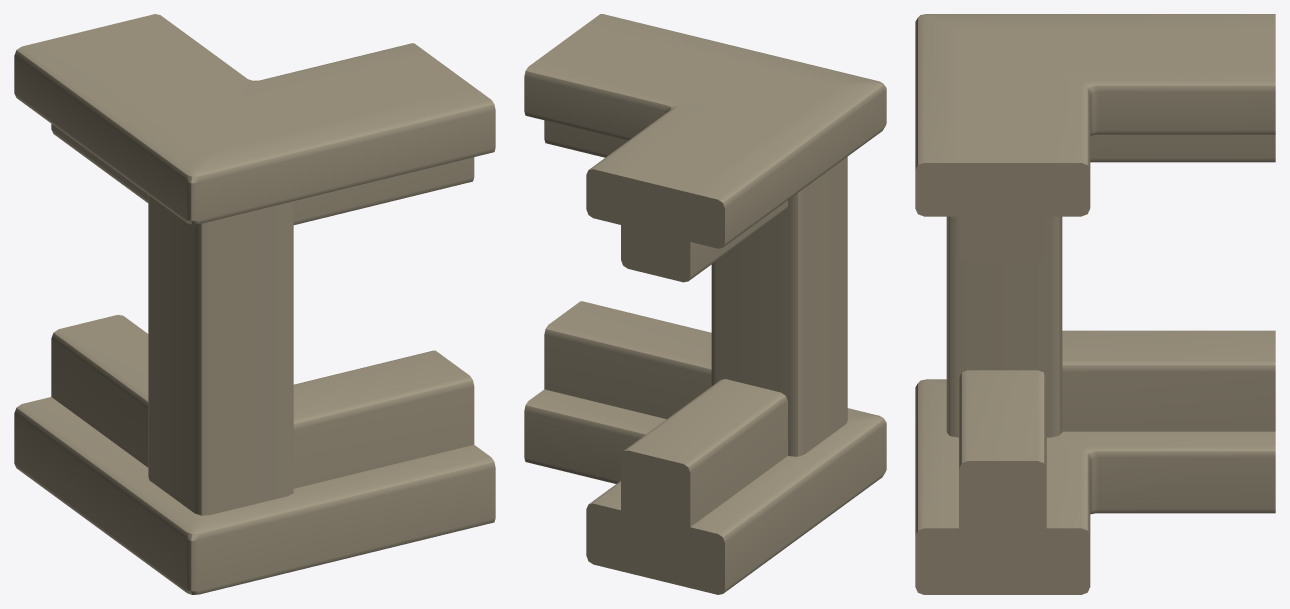
The model's file is RailCorner_001.fbx.
3 views of the same model, side by side, from view 1: azimuth 30°, elevation 25°; view 2: azimuth 150°, elevation 25°; view 3: azimuth 270°, elevation 25° (orthographic). The views are drawn at different scales.
Visible parts, largest first — view 1: RailCorner_001; view 2: RailCorner_001; view 3: RailCorner_001.
Part boxes in pixels (x1,y1,x2,y2): RailCorner_001: (14, 14, 495, 594); RailCorner_001: (524, 14, 886, 594); RailCorner_001: (915, 14, 1275, 594).
Bounding box in the file's own units: 0.6602 × 0.8738 × 0.6602.
